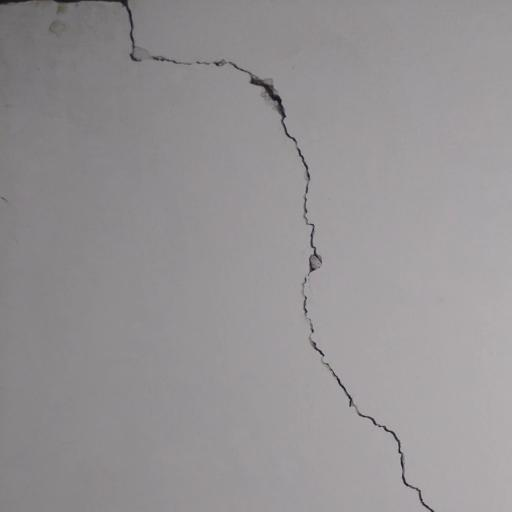major_crack: (6, 0, 441, 512)
